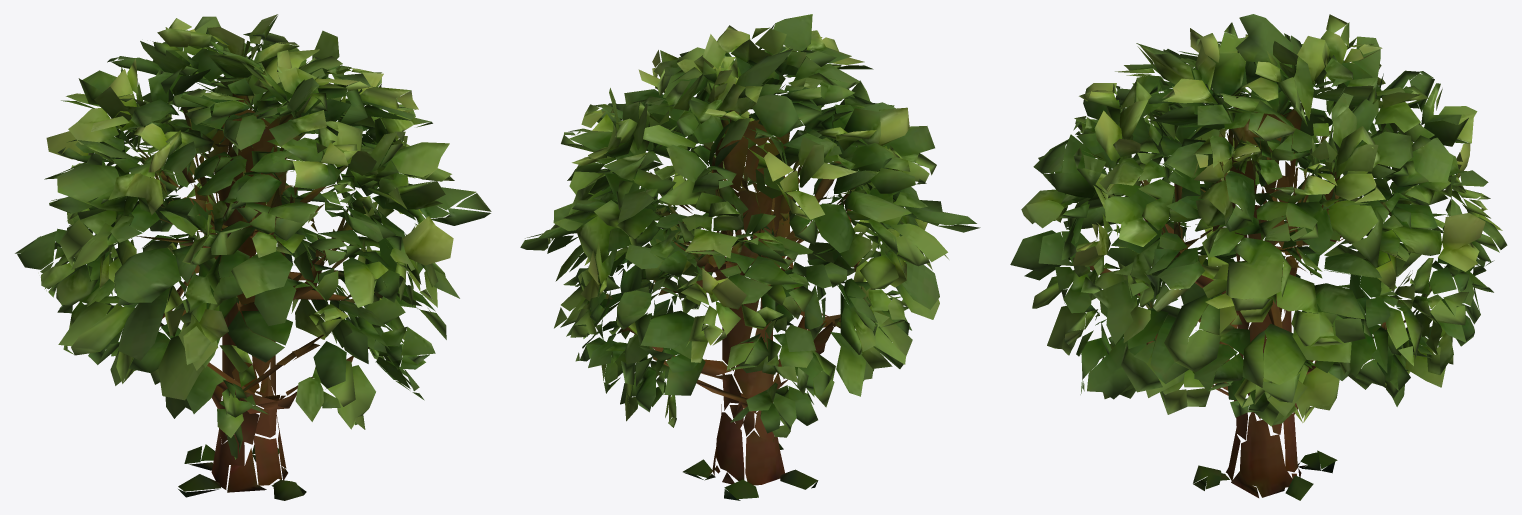
File: bush-round.glb
3 renders of one model, left to right at view 1: azimuth 30°, elevation 25°; view 2: azimuth 150°, elevation 25°; view 3: azimuth 270°, elevation 25°, orthographic. The views are drawn at different scales.
Parts seen in each view (by area): view 1: tripo_node_8330bd23-952f-4f09-a97c-3859937f2837; view 2: tripo_node_8330bd23-952f-4f09-a97c-3859937f2837; view 3: tripo_node_8330bd23-952f-4f09-a97c-3859937f2837.
Part boxes in pixels (x1,y1,x2,y2): tripo_node_8330bd23-952f-4f09-a97c-3859937f2837: (15,14,491,500); tripo_node_8330bd23-952f-4f09-a97c-3859937f2837: (520,14,980,500); tripo_node_8330bd23-952f-4f09-a97c-3859937f2837: (1010,14,1507,500).
Size of the model in its own units: 0.8689 by 0.9798 by 0.9657.
1 material, 1 textured.
